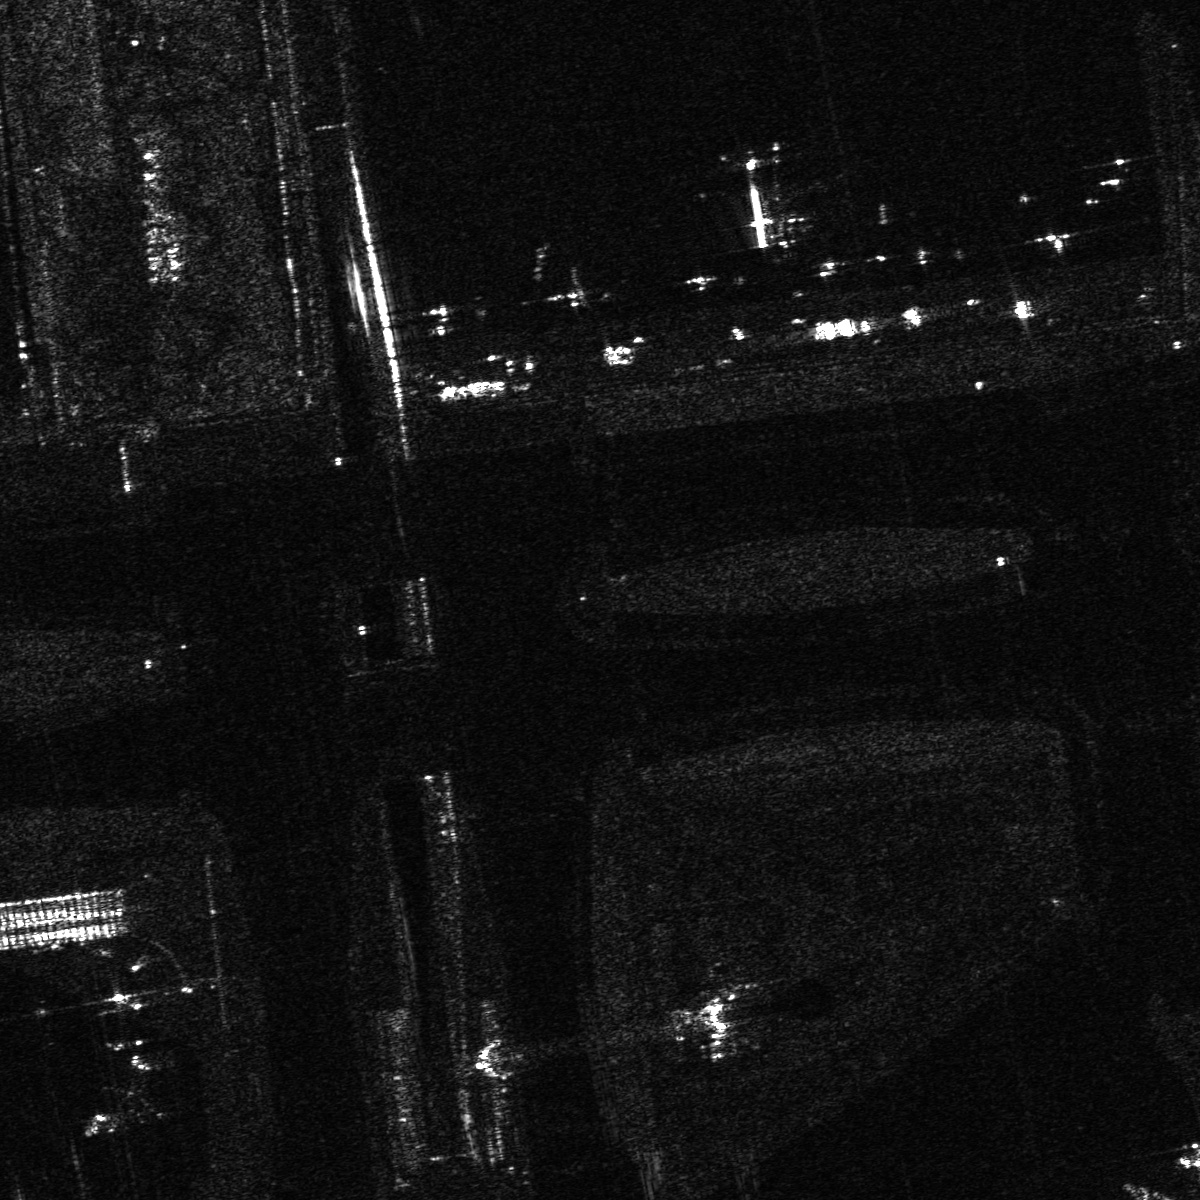Boeing787: (685, 146, 838, 258), (89, 1052, 170, 1136)
